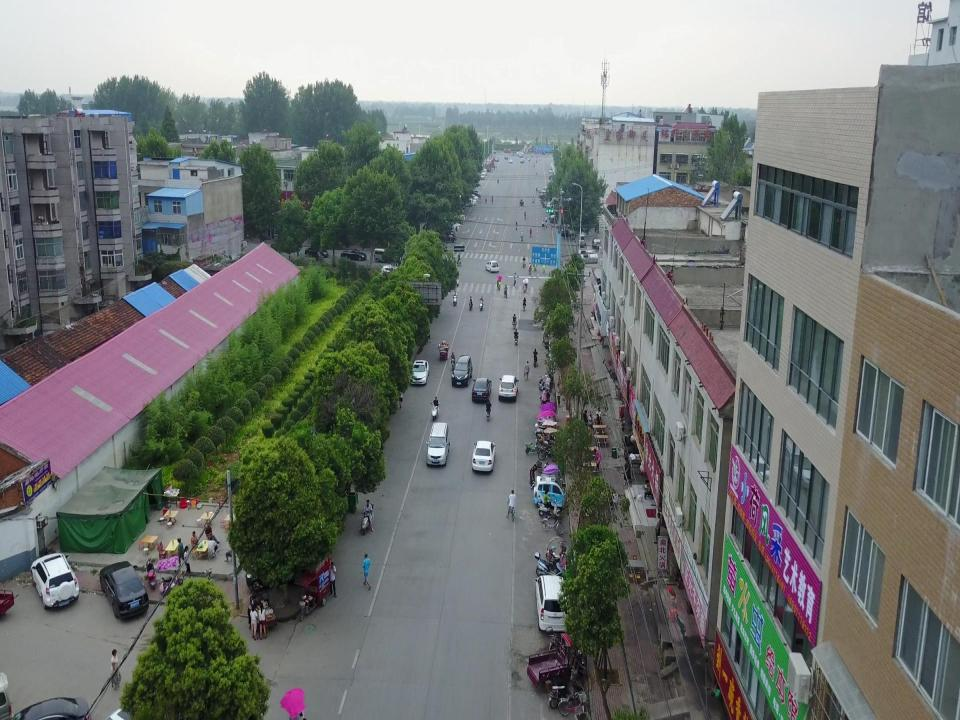car: (97, 564, 149, 622), (32, 556, 78, 610), (10, 698, 95, 720), (471, 439, 496, 474), (498, 374, 518, 402), (472, 376, 492, 402), (410, 360, 428, 386), (342, 248, 366, 261), (305, 244, 329, 257), (485, 259, 499, 273), (381, 265, 399, 275), (593, 237, 601, 249)
truck: (525, 629, 586, 689)
van: (533, 574, 569, 633), (426, 422, 450, 465), (451, 354, 473, 387), (374, 246, 392, 261), (579, 233, 586, 246)
